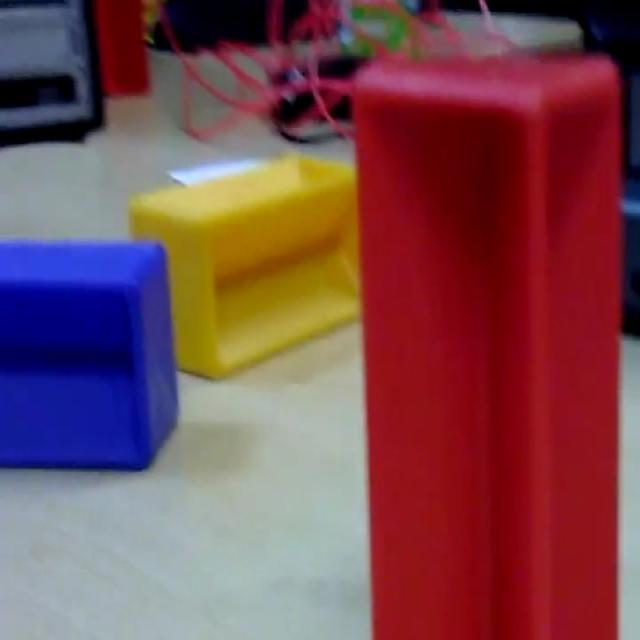blue_block: (1, 235, 179, 472)
red_block: (352, 49, 623, 636)
yellow_block: (127, 152, 361, 379)
